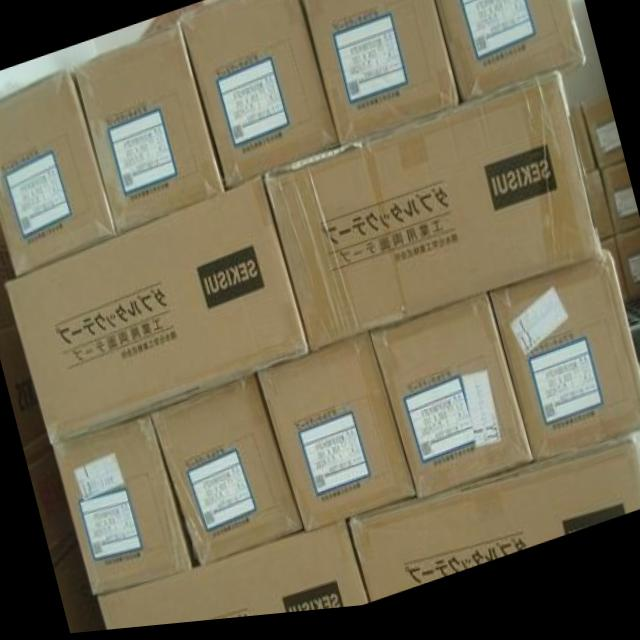box: (263, 80, 603, 356), (6, 181, 308, 444), (349, 451, 640, 606), (369, 303, 531, 506), (254, 339, 416, 537), (73, 21, 222, 236), (491, 265, 640, 473), (179, 0, 339, 193), (149, 379, 301, 568), (99, 527, 365, 632), (303, 0, 459, 155), (53, 419, 189, 595), (0, 71, 113, 276), (433, 0, 587, 114), (580, 103, 624, 181), (600, 172, 640, 247), (613, 239, 640, 313)
